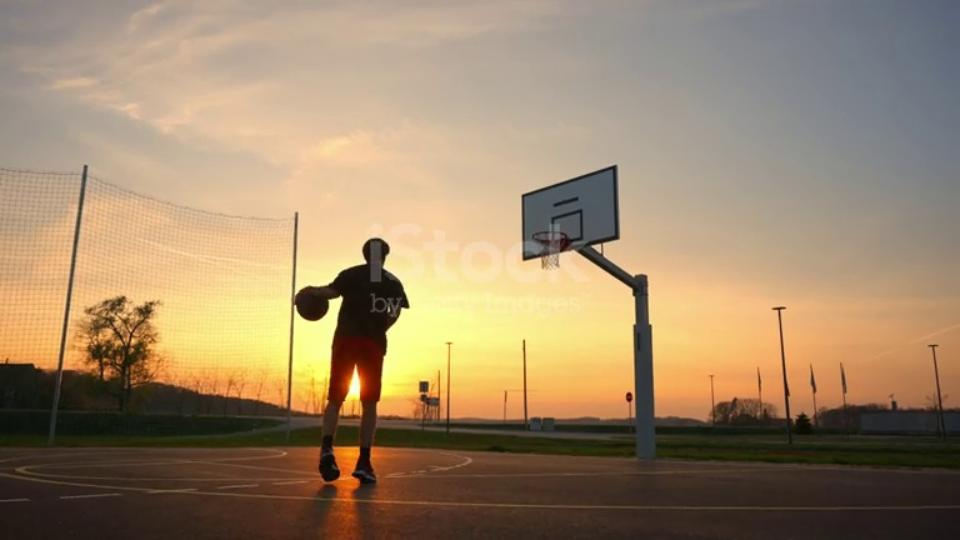hoop: (530, 230, 577, 248)
